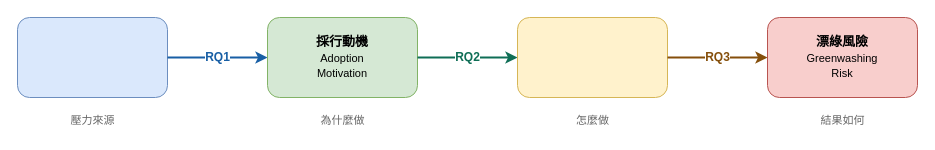
Some shapes in this 935 by 150 pixel diagram are drawn without their labels. Each missing label, with the centre of its shape:
"制度壓力 Institutional Pressure" belongs at [92,57].
"採行方式 Adoption Approach" belongs at [592,57].
